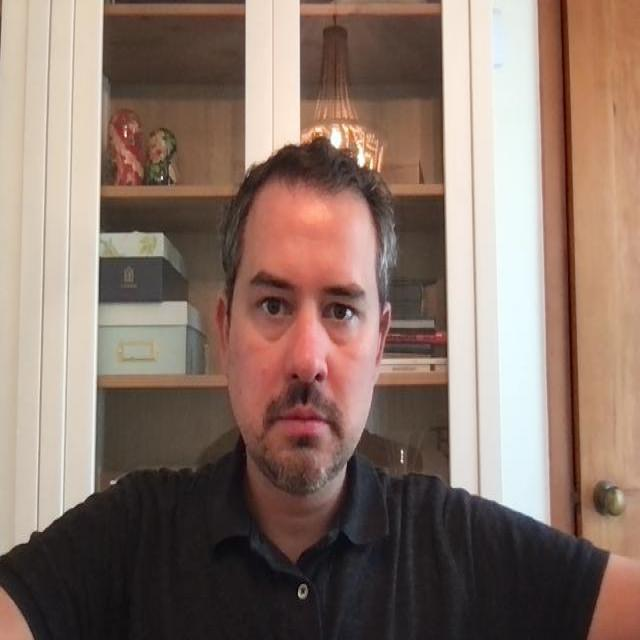face: (216, 141, 394, 495)
